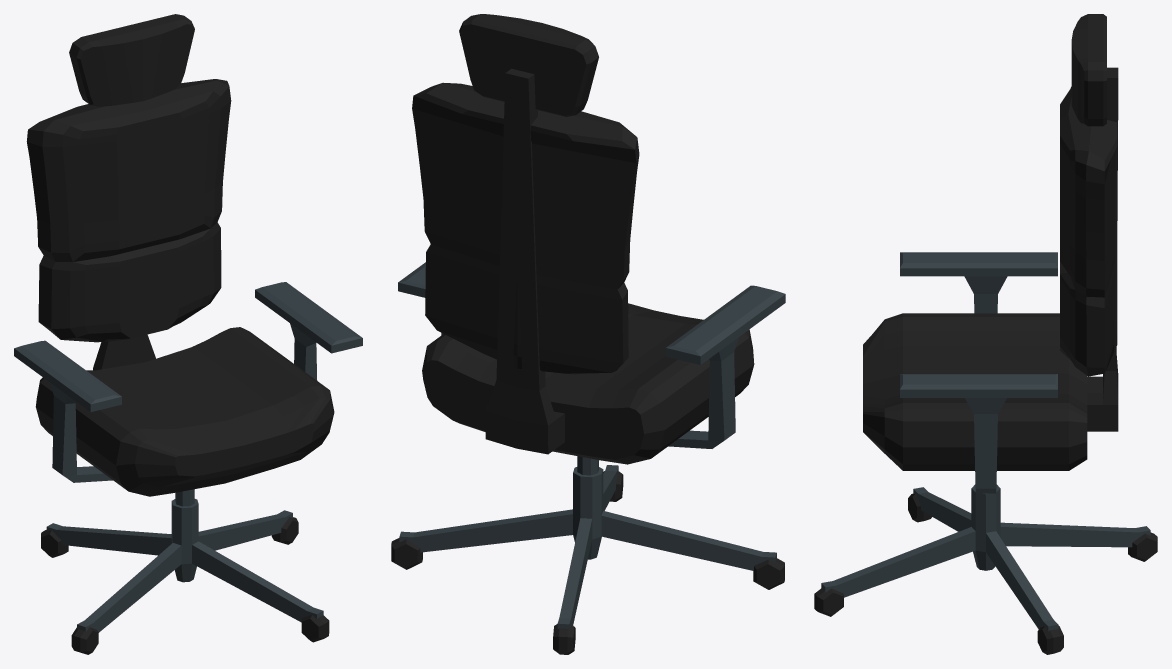
File: ChairV4Black.fbx
The picture shows the model from 3 angles, left to right: view 1: azimuth 30°, elevation 25°; view 2: azimuth 150°, elevation 25°; view 3: azimuth 270°, elevation 25°; orthographic projection. The views are drawn at different scales.
Parts seen in each view (by area): view 1: ChairV4Black_Top, ChairV4Black; view 2: ChairV4Black_Top, ChairV4Black; view 3: ChairV4Black_Top, ChairV4Black.
Boxes of the visible parts, x1=… form: ChairV4Black_Top: x1=14, y1=14, x2=362, y2=496; ChairV4Black: x1=41, y1=489, x2=329, y2=654; ChairV4Black_Top: x1=398, y1=14, x2=785, y2=464; ChairV4Black: x1=391, y1=456, x2=784, y2=654; ChairV4Black_Top: x1=863, y1=14, x2=1118, y2=493; ChairV4Black: x1=814, y1=484, x2=1157, y2=654.
Size of the model in its own units: 82.82 by 146 by 82.82.
